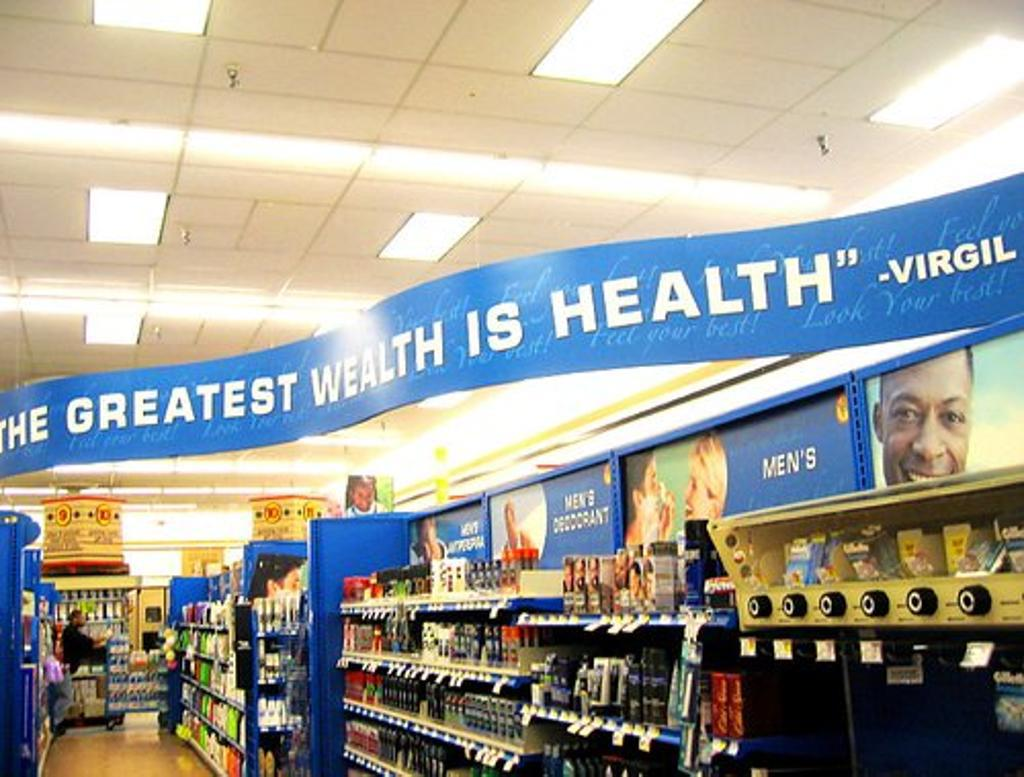face: (882, 353, 971, 496), (684, 453, 705, 532), (643, 460, 661, 526), (278, 572, 301, 606), (355, 485, 375, 511), (420, 519, 437, 549), (629, 572, 641, 598), (575, 563, 586, 590), (590, 561, 601, 588), (504, 510, 514, 535), (564, 567, 573, 590), (645, 575, 654, 597), (79, 613, 86, 627)
